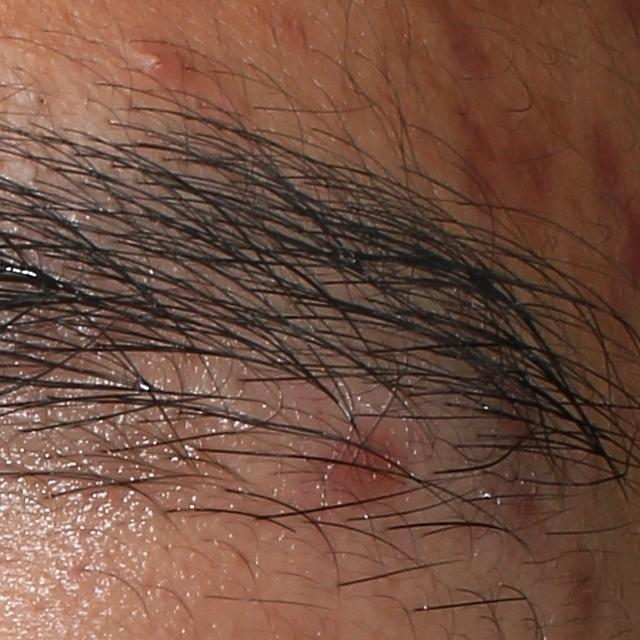atrophic_scar: (454, 102, 550, 210)
comedo: (27, 89, 50, 110)
papule: (131, 45, 187, 80)
